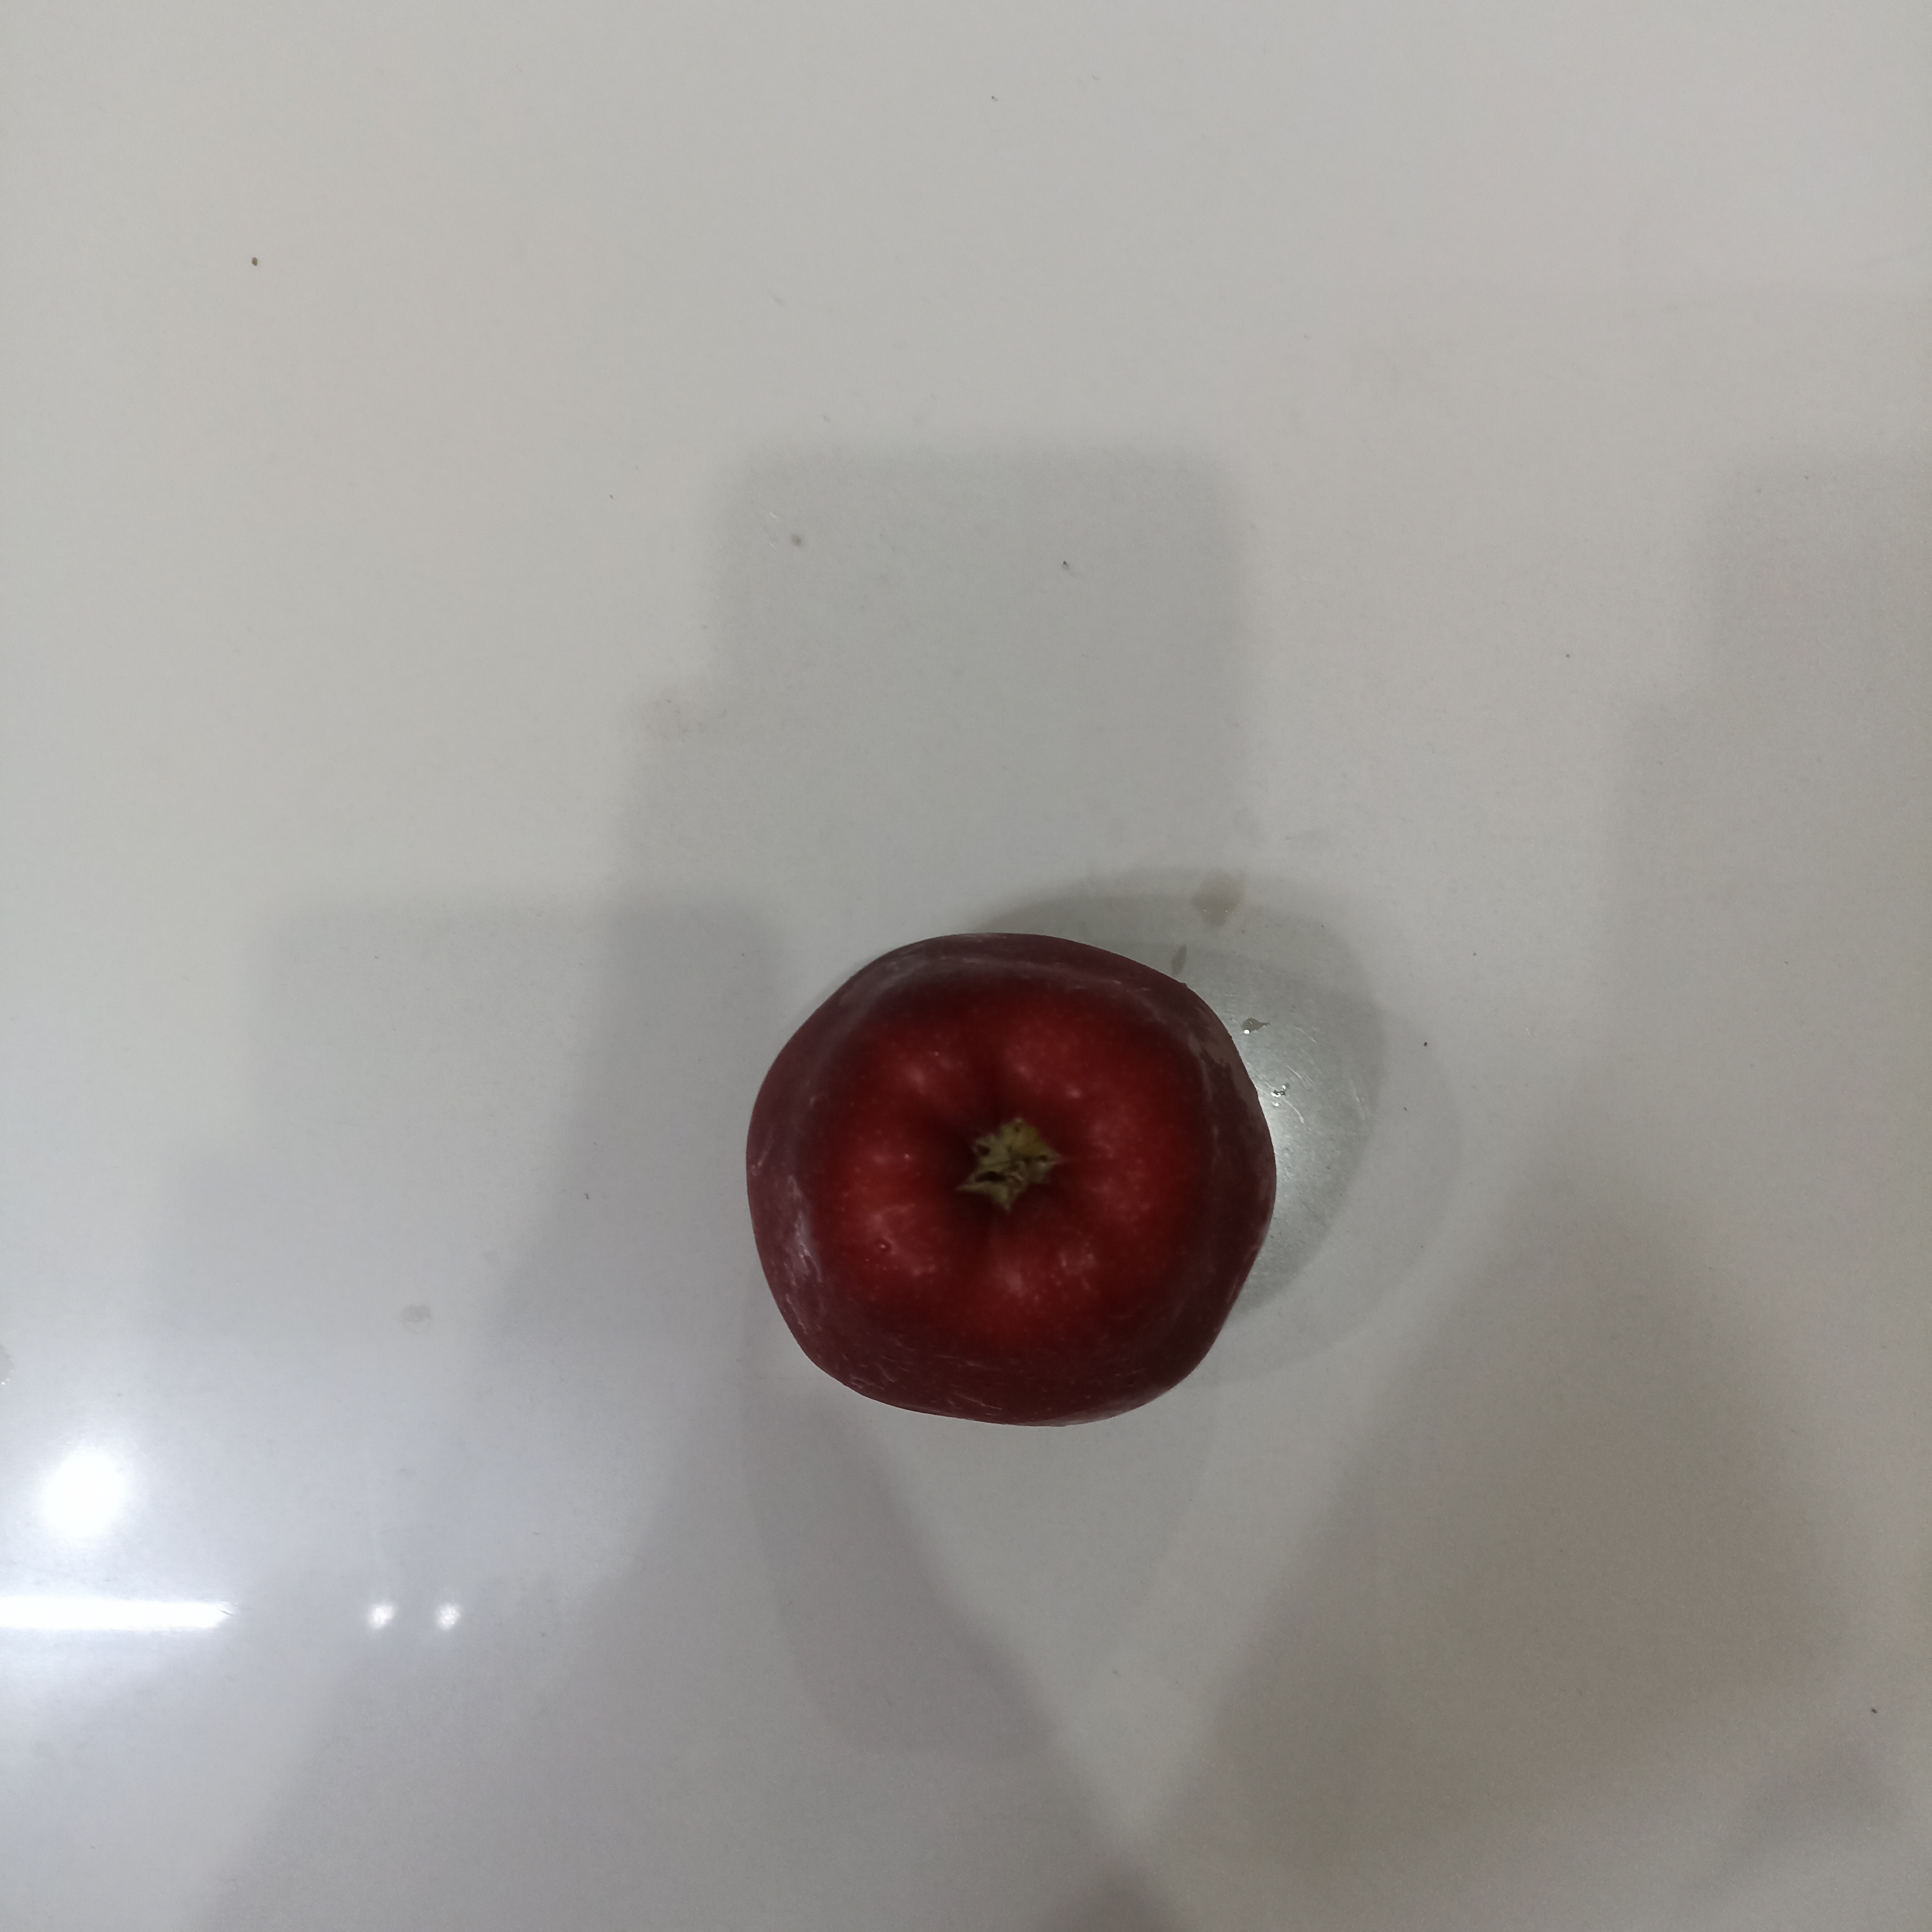Tao do: (745, 936, 1276, 1424)
